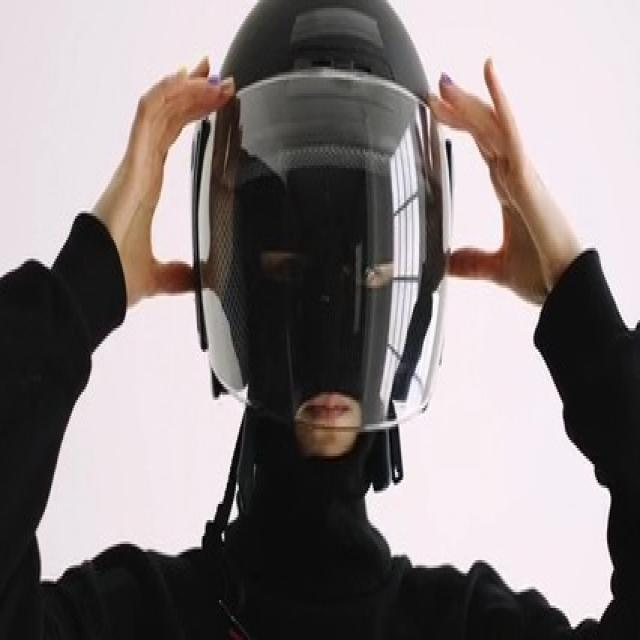Helmet_Wearer: (182, 0, 479, 626)
Person: (2, 0, 640, 640)
